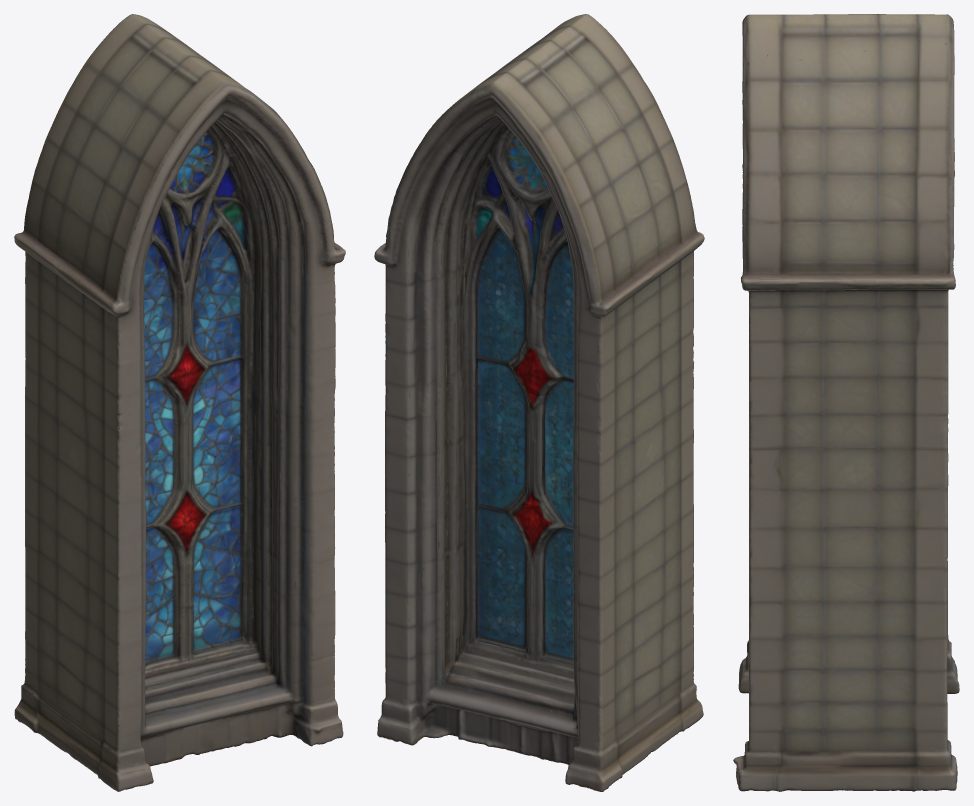
3 renders of one model, left to right at view 1: azimuth 30°, elevation 25°; view 2: azimuth 150°, elevation 25°; view 3: azimuth 270°, elevation 25°, orthographic. The views are drawn at different scales.
Visible parts, largest first — view 1: Mesh_0; view 2: Mesh_0; view 3: Mesh_0.
Part boxes in pixels (<box>): Mesh_0: <box>14,14,345,791</box>; Mesh_0: <box>374,14,704,791</box>; Mesh_0: <box>733,14,959,791</box>.
Size of the model in its own units: 72.52 by 201 by 57.41.
Materials: 1 (1 with a texture image).
